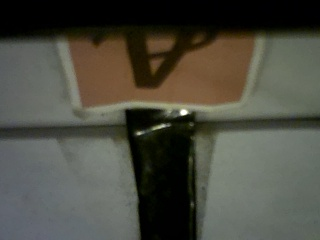A: (69, 37, 252, 106)
